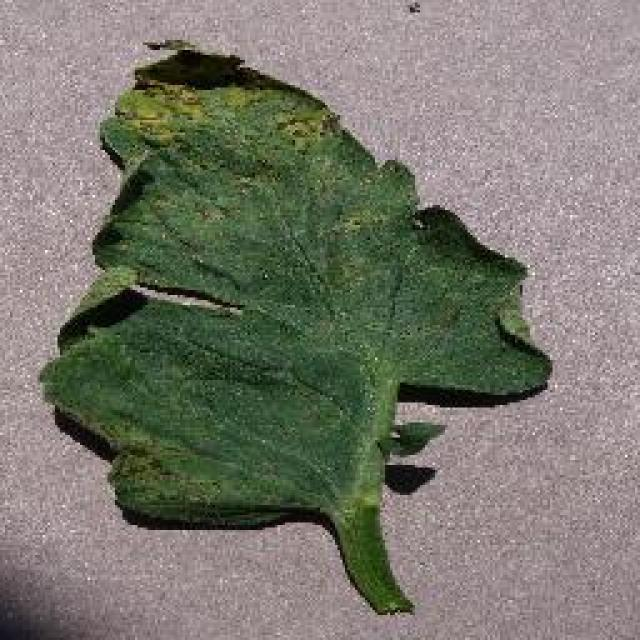Tomato target spot leaf: (41, 38, 559, 538)
